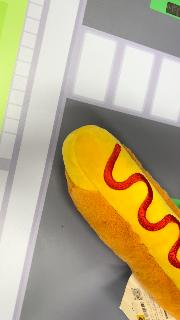hotdog: (63, 124, 180, 320)
